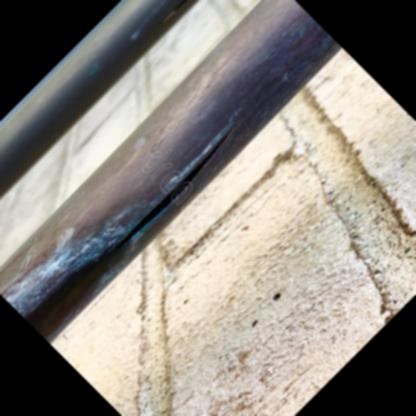burst: (126, 122, 243, 239)
